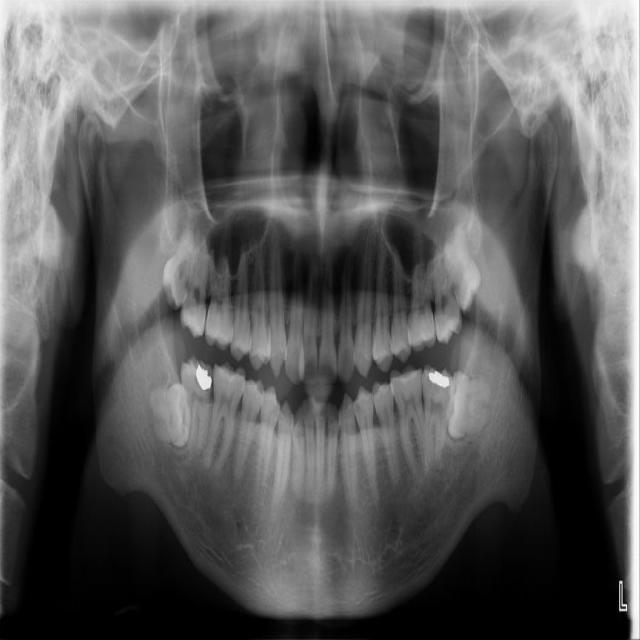3M ESPE Implant: (151, 220, 213, 313)
52: (415, 363, 460, 413), (176, 354, 218, 401)
73: (590, 573, 593, 578)
BioHorizons Implant: (427, 231, 464, 346)
BioLife Implant: (436, 221, 492, 319)
Biomet 3i Implant: (442, 369, 497, 443)
Blue Sky Bio Implant: (422, 363, 456, 473)
Caries: (179, 227, 212, 339)
Implant: (181, 354, 214, 460)
Keystone Dental Implant: (146, 381, 196, 451)
